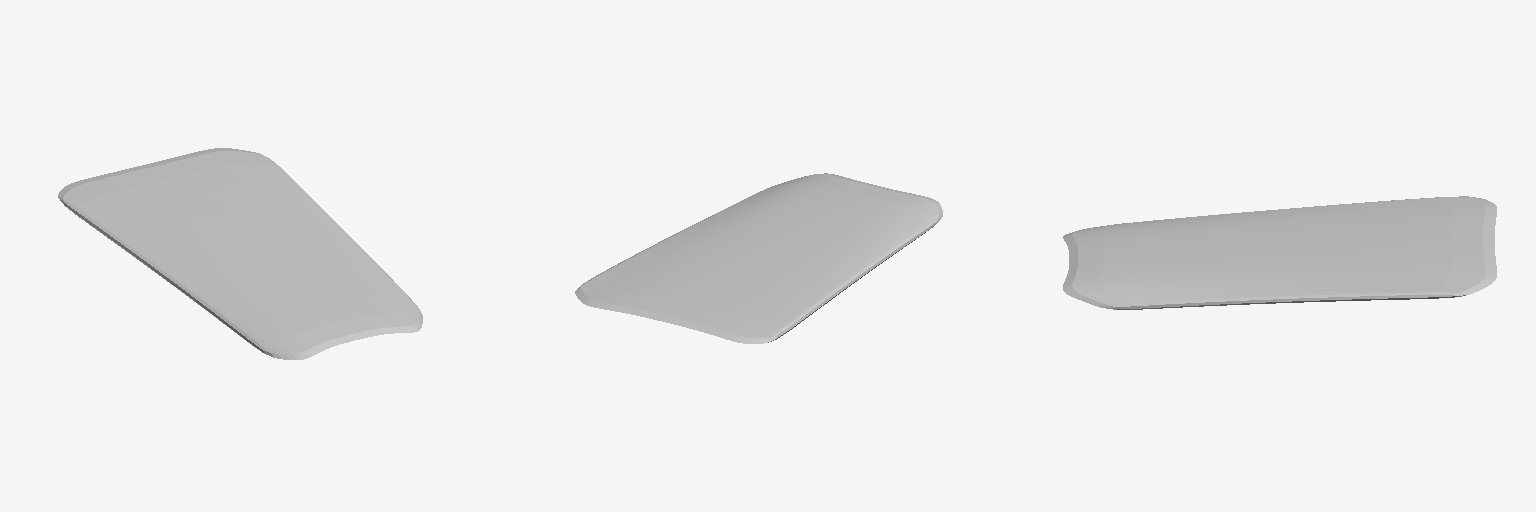
The model's file is Hatch_Spaceship_1_0.obj.
3 views of the same model, side by side, from view 1: azimuth 30°, elevation 25°; view 2: azimuth 150°, elevation 25°; view 3: azimuth 270°, elevation 25° (orthographic).
Parts seen in each view (by area): view 1: Hatch_Spaceship_1_0; view 2: Hatch_Spaceship_1_0; view 3: Hatch_Spaceship_1_0.
Part boxes in pixels (left/top/right/bottom): Hatch_Spaceship_1_0: left=58, top=148, right=422, bottom=359; Hatch_Spaceship_1_0: left=575, top=173, right=942, bottom=343; Hatch_Spaceship_1_0: left=1063, top=196, right=1496, bottom=309.
Bounding box in the file's own units: 2.49 × 0.3612 × 4.66.